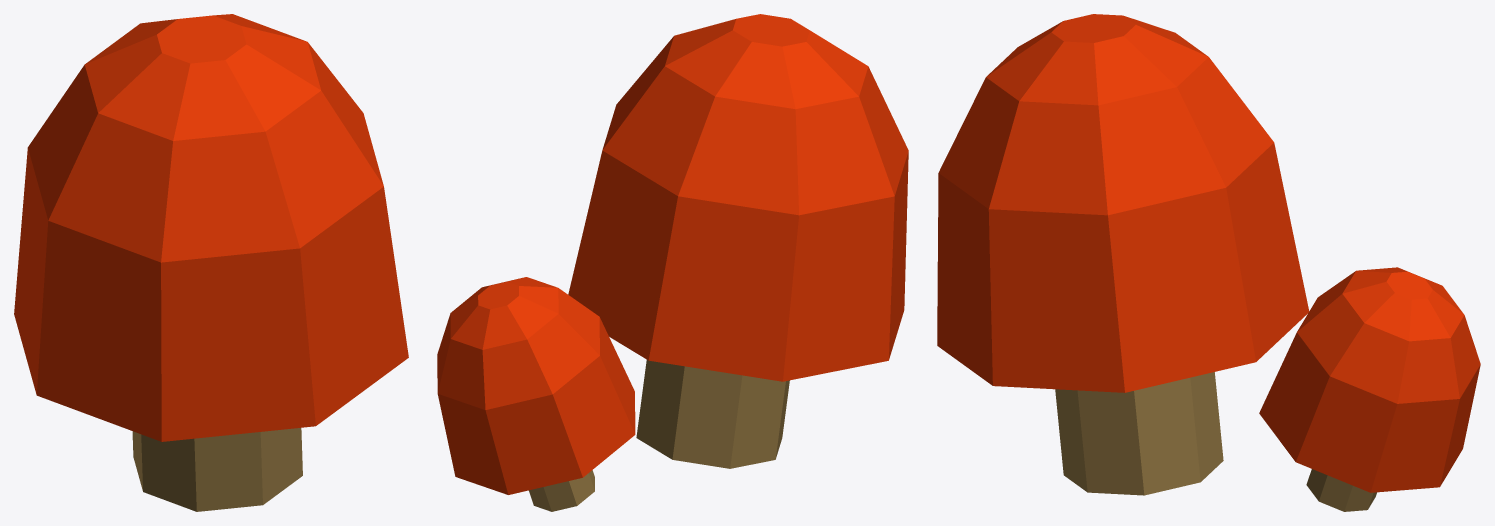
File: Mushroom1.fbx
3 views of the same model, side by side, from view 1: azimuth 30°, elevation 25°; view 2: azimuth 150°, elevation 25°; view 3: azimuth 270°, elevation 25° (orthographic). The views are drawn at different scales.
Parts seen in each view (by area): view 1: Mushroom1; view 2: Mushroom1; view 3: Mushroom1.
Part boxes in pixels (x1,y1,x2,y2): Mushroom1: [14, 14, 408, 511]; Mushroom1: [437, 14, 908, 511]; Mushroom1: [937, 14, 1480, 511].
Size of the model in its own units: 292 by 359 by 408.
